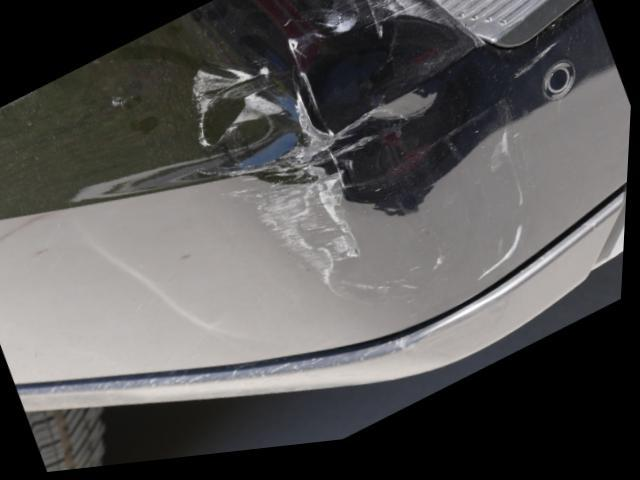dent: (206, 22, 477, 173)
scratch: (226, 114, 538, 316), (281, 0, 433, 70), (193, 66, 271, 120), (516, 55, 561, 90)
